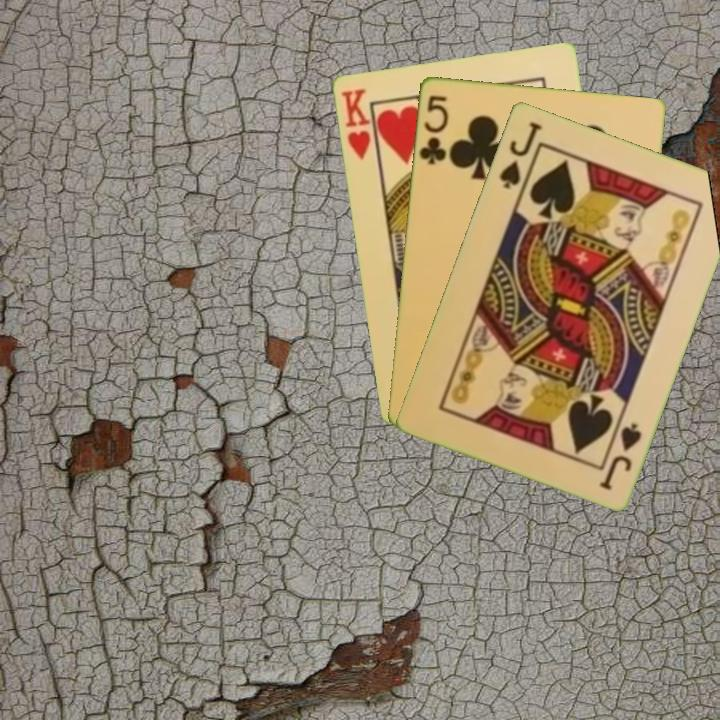5c: (415, 91, 451, 167)
Js: (595, 418, 645, 492), (495, 117, 544, 191)
Kh: (338, 85, 380, 165)
